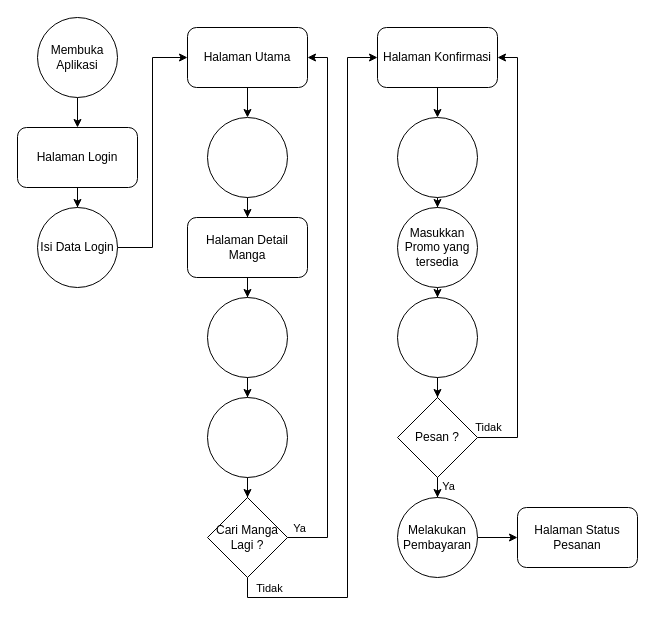
Some shapes in this 655 by 623 pixel diagram are drawn without their labels. Here are the shapes that lost their labels. From the top down, the centre of each, then its label:
the point at 247,157: Mencari & Memilih Manga
the point at 437,157: Cek Pesanan
the point at 247,337: Kustomisasi Volume
the point at 437,337: Memilih Metode Pembayaran
the point at 247,437: Memasukkan ke Keranjang
